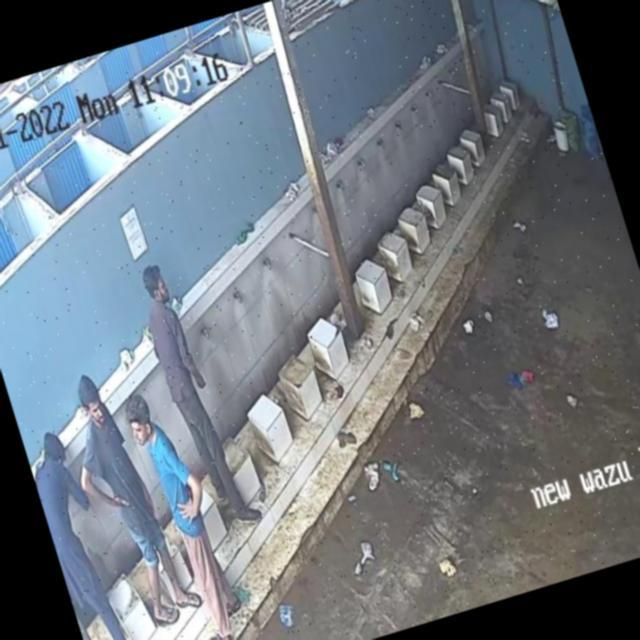person: (67, 372, 185, 619), (126, 393, 240, 636), (142, 263, 250, 518), (25, 421, 144, 640)
